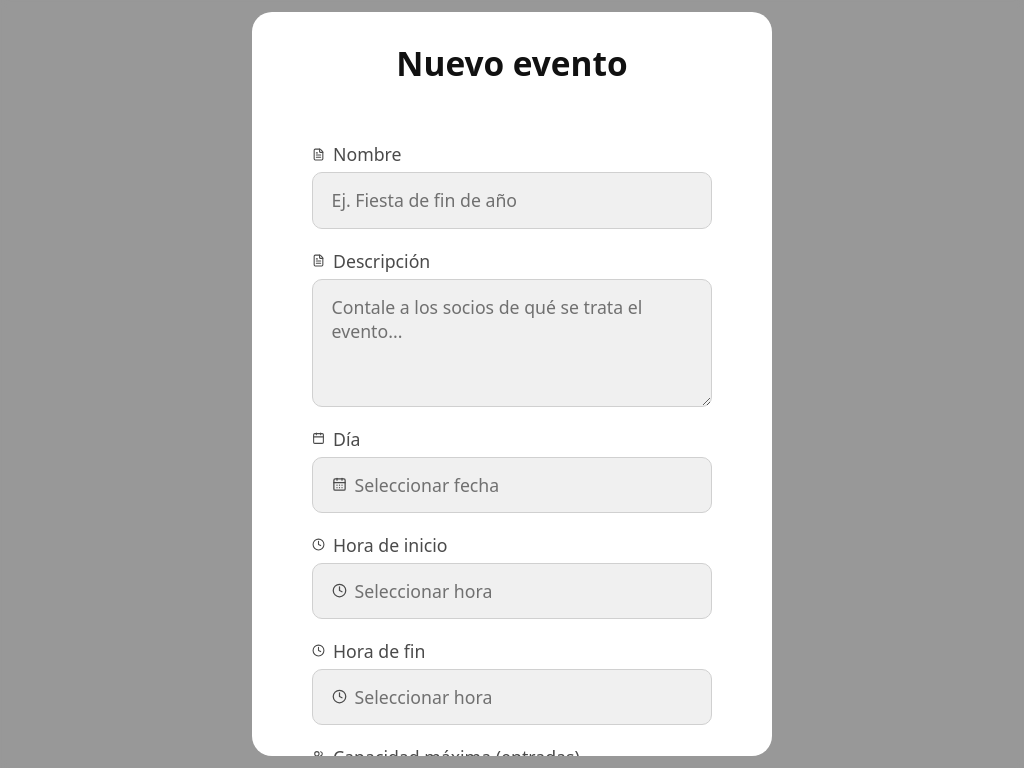
Test: CreateEventoForm › no envía si la descripción está vacía
This screenshot has width=1024, height=768.
Type "Título" into the field with placeholder "Ej. Fiesta de fin de año" at (512, 200), box [312, 172, 712, 228]
(page scrolled)
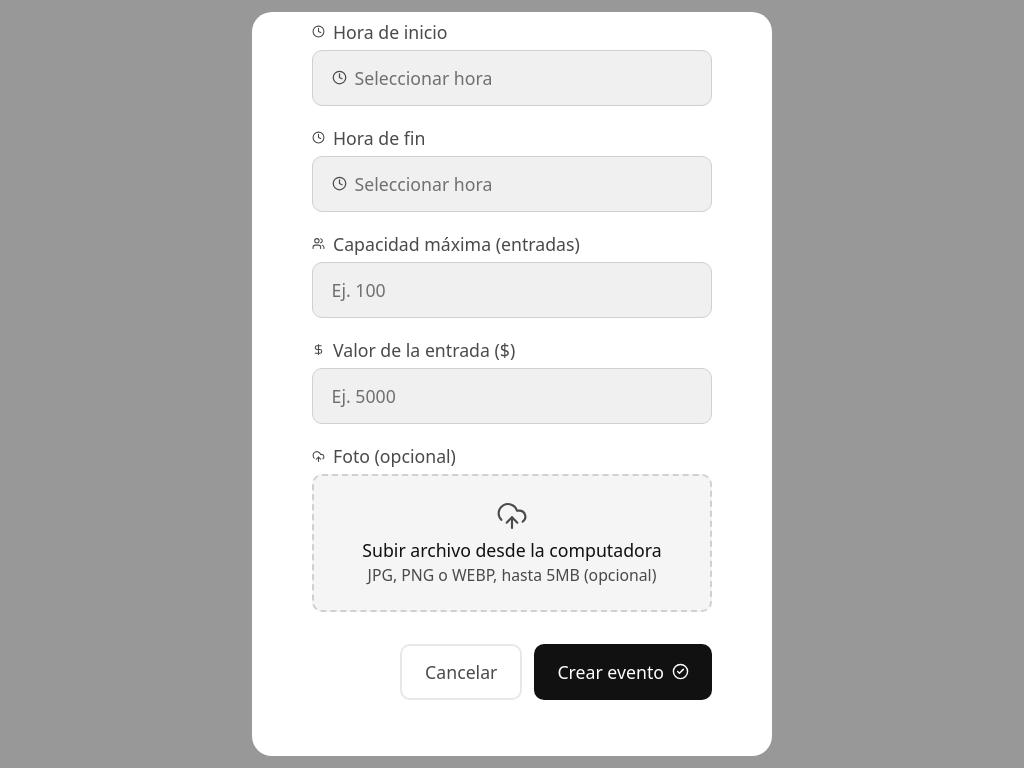
Click the button "Crear evento" at (623, 672), box [534, 644, 712, 700]
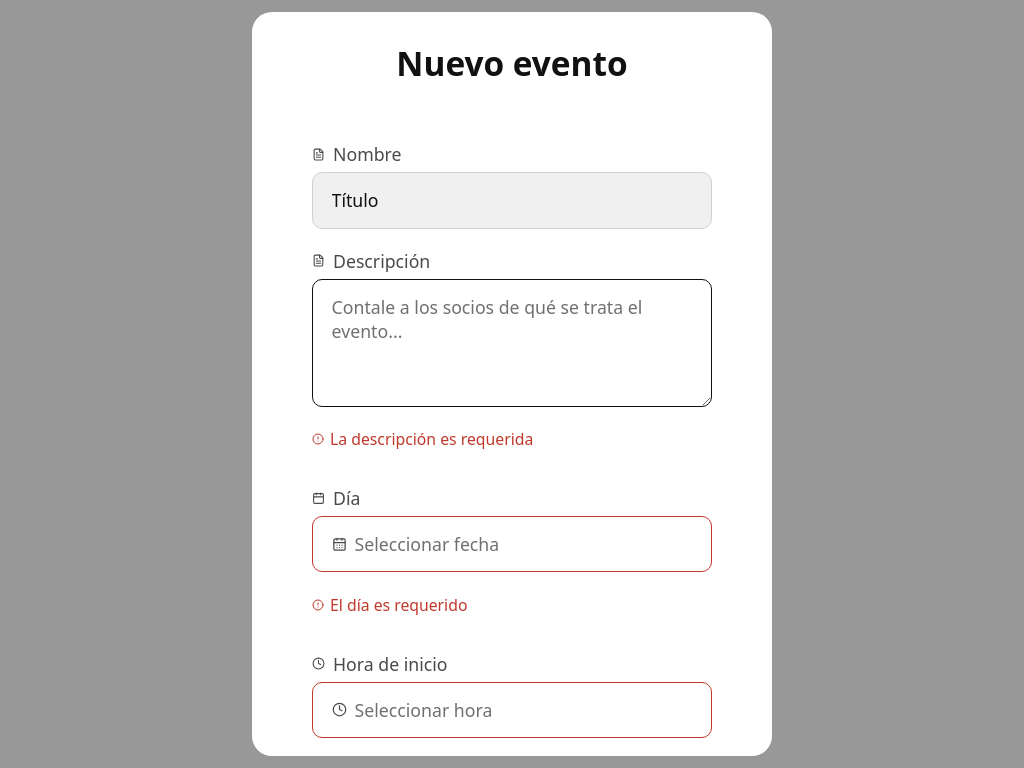
Result: the text "La descripción es requerida" is shown at [312, 428, 533, 450]
